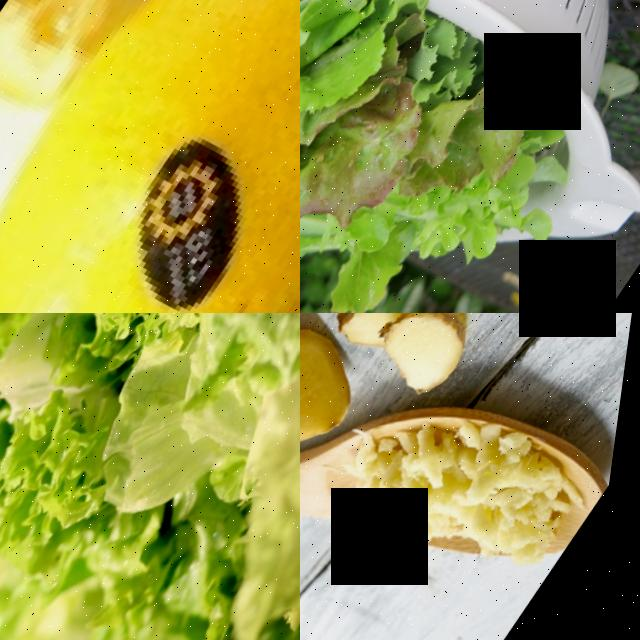lemon: (0, 0, 300, 313)
lettuce: (300, 0, 614, 313), (0, 313, 237, 625), (25, 386, 300, 640)
